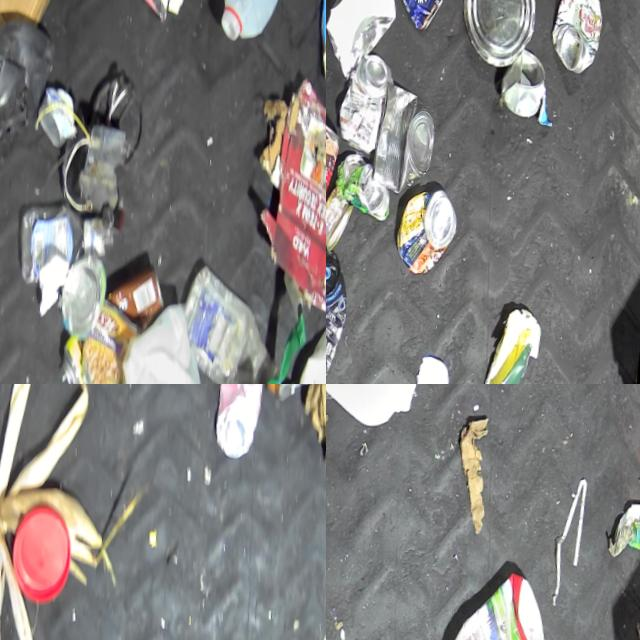can: (54, 261, 178, 384), (366, 77, 444, 195), (333, 52, 400, 155), (394, 187, 466, 275), (456, 0, 542, 71), (208, 384, 275, 462), (59, 253, 117, 341), (543, 0, 608, 76), (335, 150, 398, 224), (326, 247, 360, 380), (58, 121, 102, 215), (496, 45, 552, 117), (32, 81, 83, 150), (326, 114, 350, 246), (326, 185, 361, 249), (382, 0, 445, 34)
milk_jug: (108, 297, 226, 384), (326, 384, 429, 432), (213, 0, 307, 47)
plastic_bottle: (176, 258, 297, 384)
